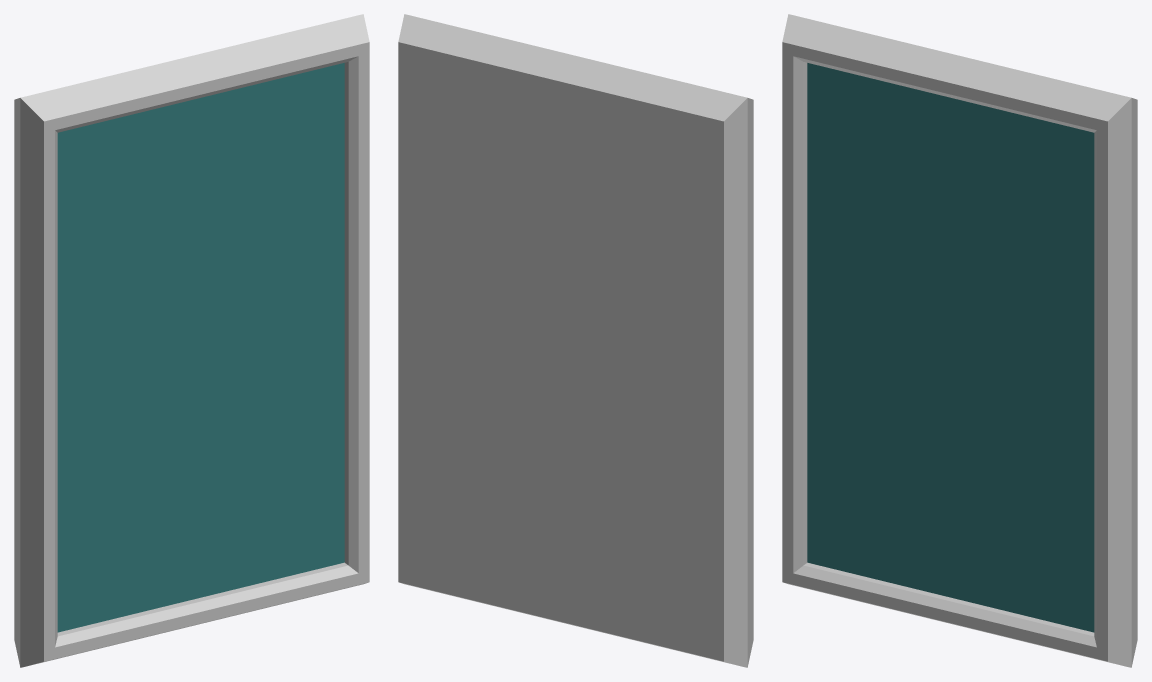
The model's file is Mirror B.glb.
3 renders of one model, left to right at view 1: azimuth 30°, elevation 25°; view 2: azimuth 150°, elevation 25°; view 3: azimuth 330°, elevation 25°, orthographic.
Parts seen in each view (by area): view 1: Mirror B; view 2: Mirror B; view 3: Mirror B.
Boxes of the visible parts, x1=… form: Mirror B: x1=14, y1=14, x2=369, y2=667; Mirror B: x1=398, y1=14, x2=753, y2=667; Mirror B: x1=782, y1=14, x2=1137, y2=667.
Size of the model in its own units: 259 by 412 by 38.9.
